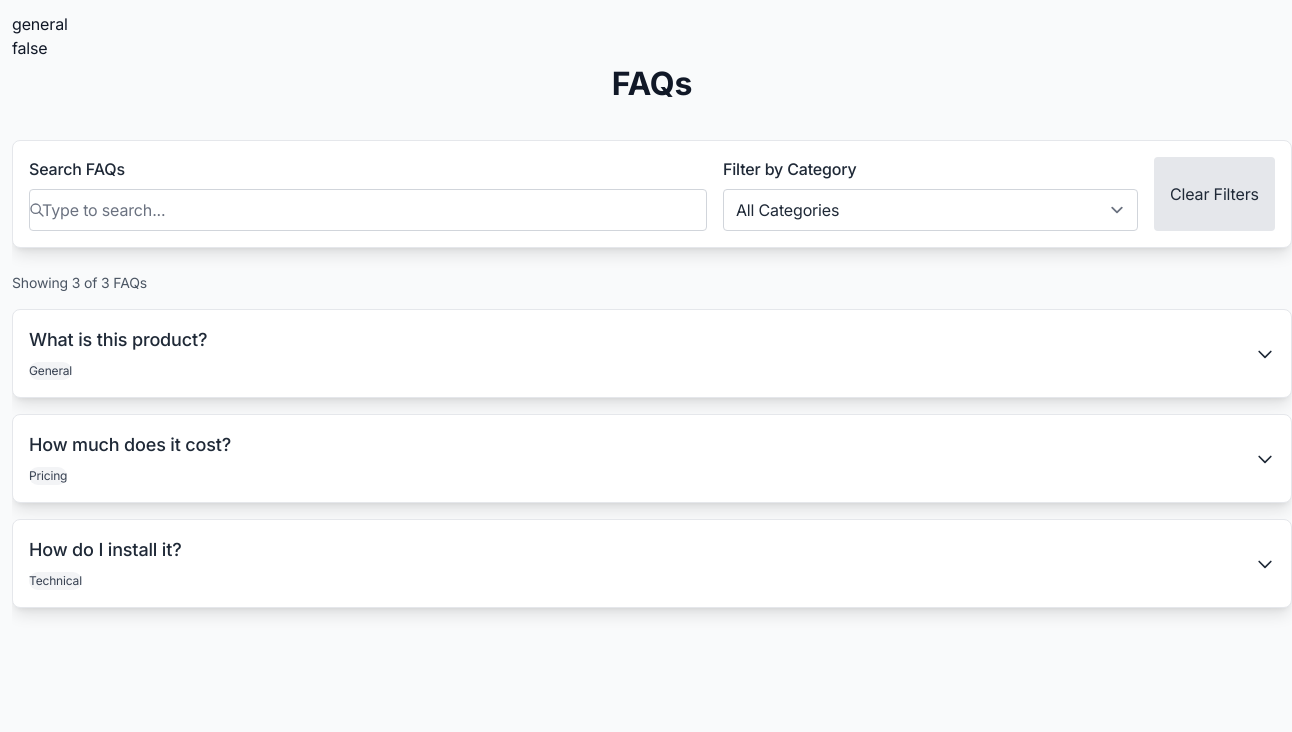
Test: Interactive Components › ExpandableFAQ › clears filters when button is clicked
The image size is (1292, 732).
Apply filter
Type "install" into the field with placeholder "Type to search...".
click(368, 210); type("install")  # box 29,189 -> 707,231
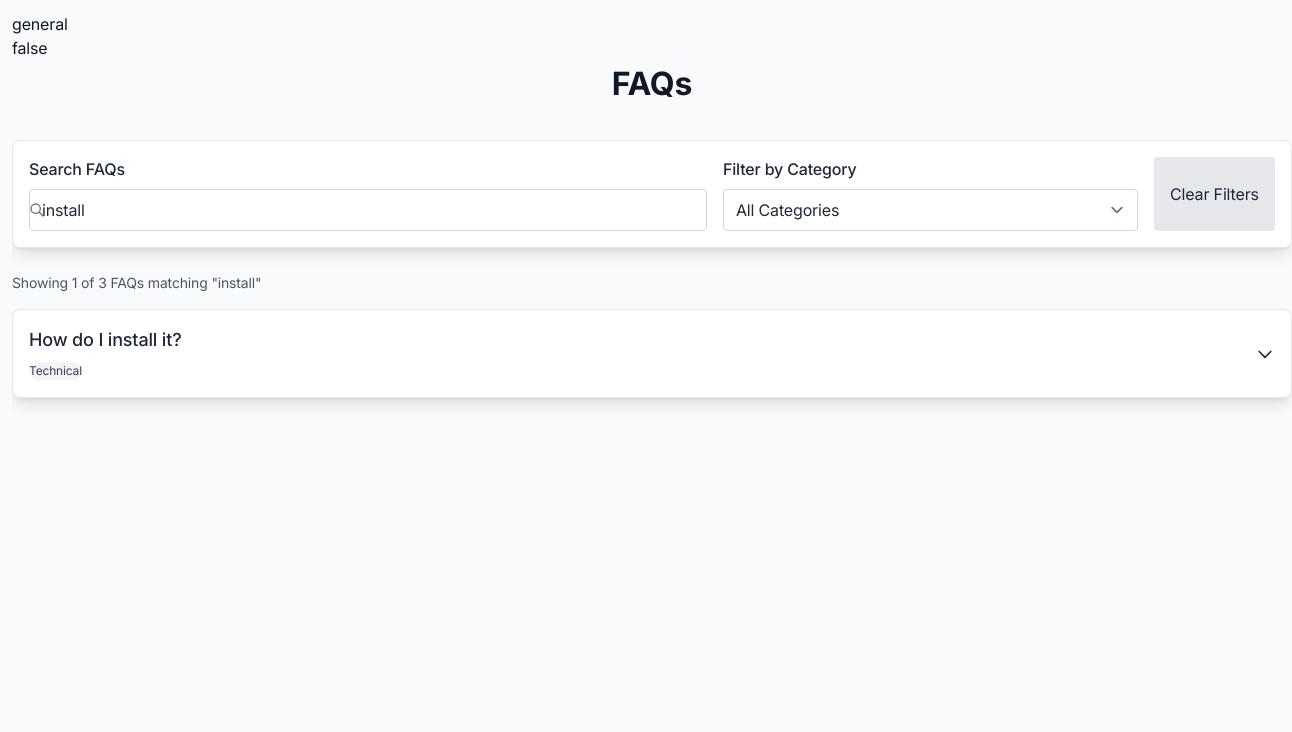
Now the button "What is this product?" is gone
Clear filters
Click the button "Clear Filters".
click(1215, 194)  # box 1154,157 -> 1275,231
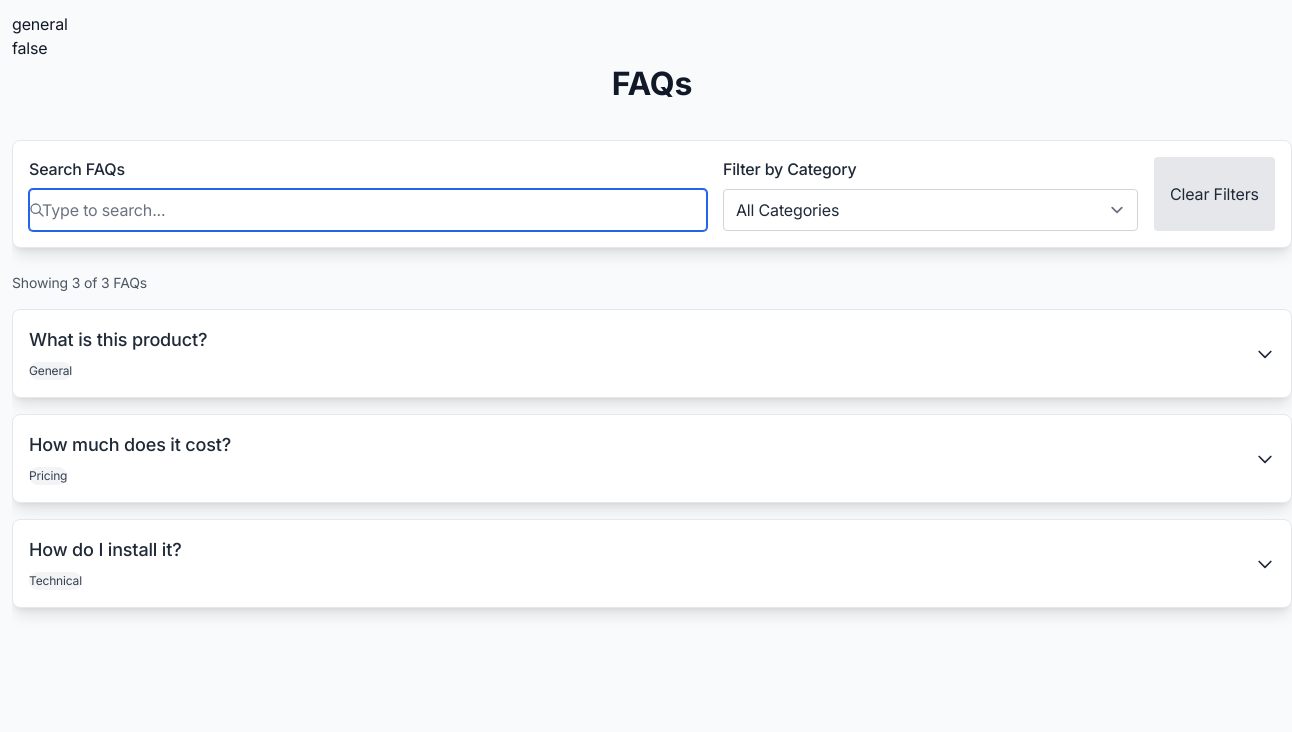
Expected: the heading "How do I install it?" is shown, 29,536 -> 182,563
Now the heading "What is this product?" is shown, box 29,326 -> 207,353
Now the heading "How much does it cost?" is shown, box 29,431 -> 231,458
